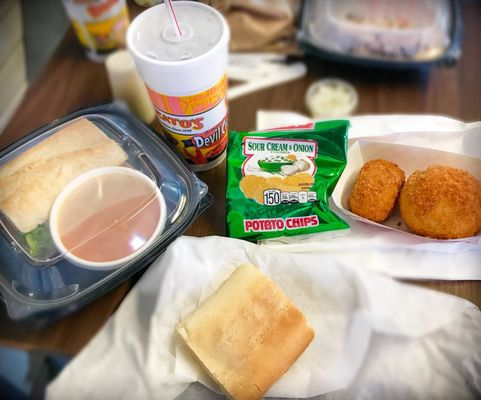pizza: (62, 1, 130, 63)
salad: (164, 1, 185, 41)
soup: (175, 261, 316, 396)
sushi: (297, 0, 461, 66)
